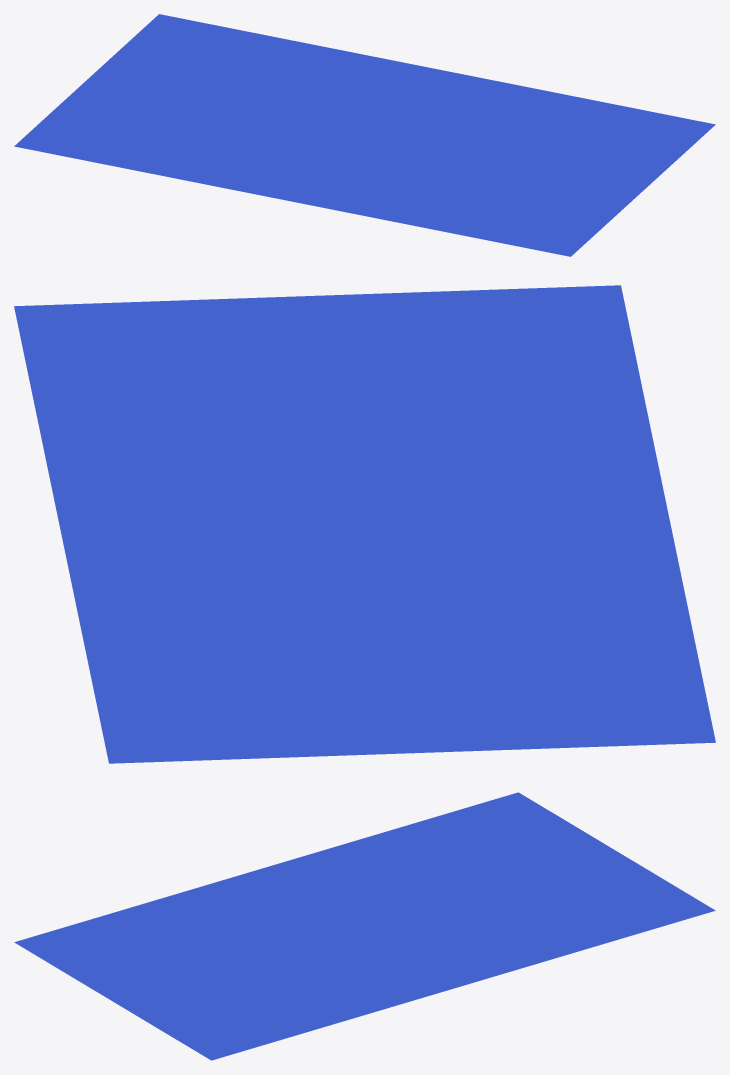
File: water.fbx
3 renders of one model, top to bottom at view 1: azimuth 30°, elevation 25°; view 2: azimuth 150°, elevation 25°; view 3: azimuth 270°, elevation 25°, orthographic. The views are drawn at different scales.
Parts seen in each view (by area): view 1: water; view 2: water; view 3: water.
Boxes of the visible parts, x1,y1,x2,y2 form: water: (14,14,715,256); water: (14,285,715,763); water: (14,792,715,1060).
Bounding box in the file's own units: 2151 × 5.92 × 2377.
